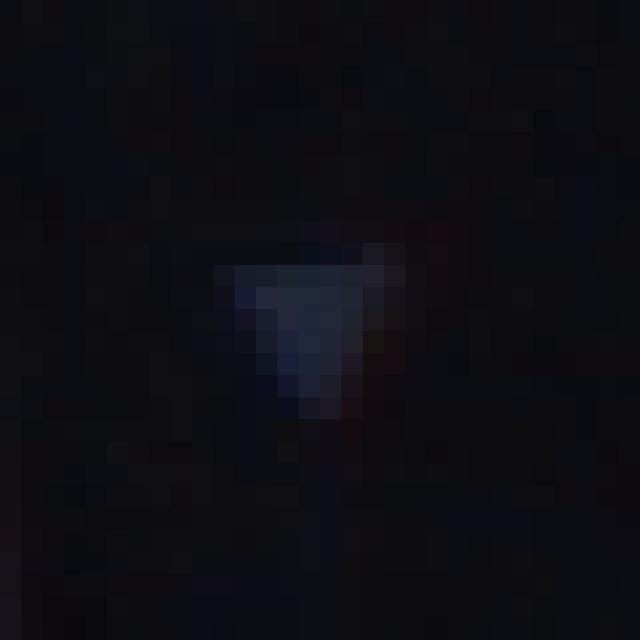Give Way: (129, 111, 534, 531)
